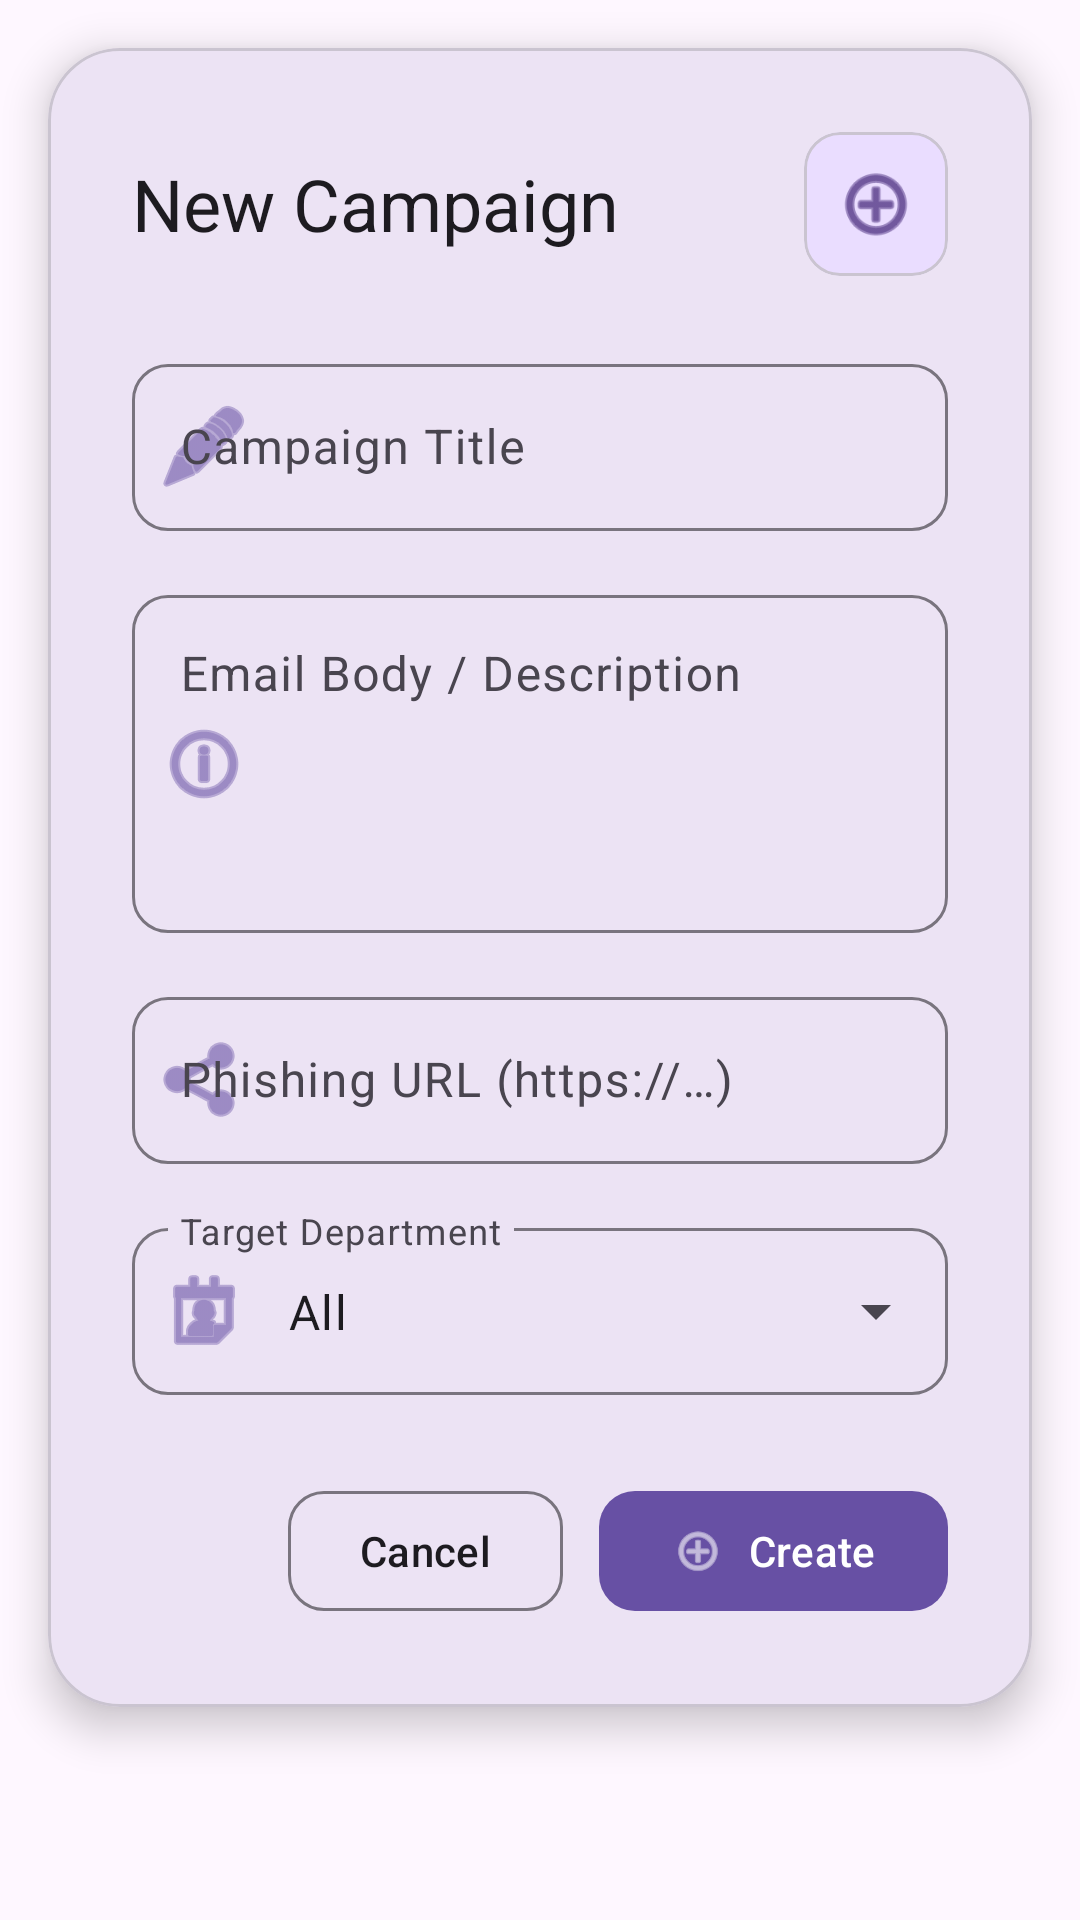

Point at icon controls on the screen. Image size 1080px x 1920px, points as point (x, y).
add: point (876, 204)
